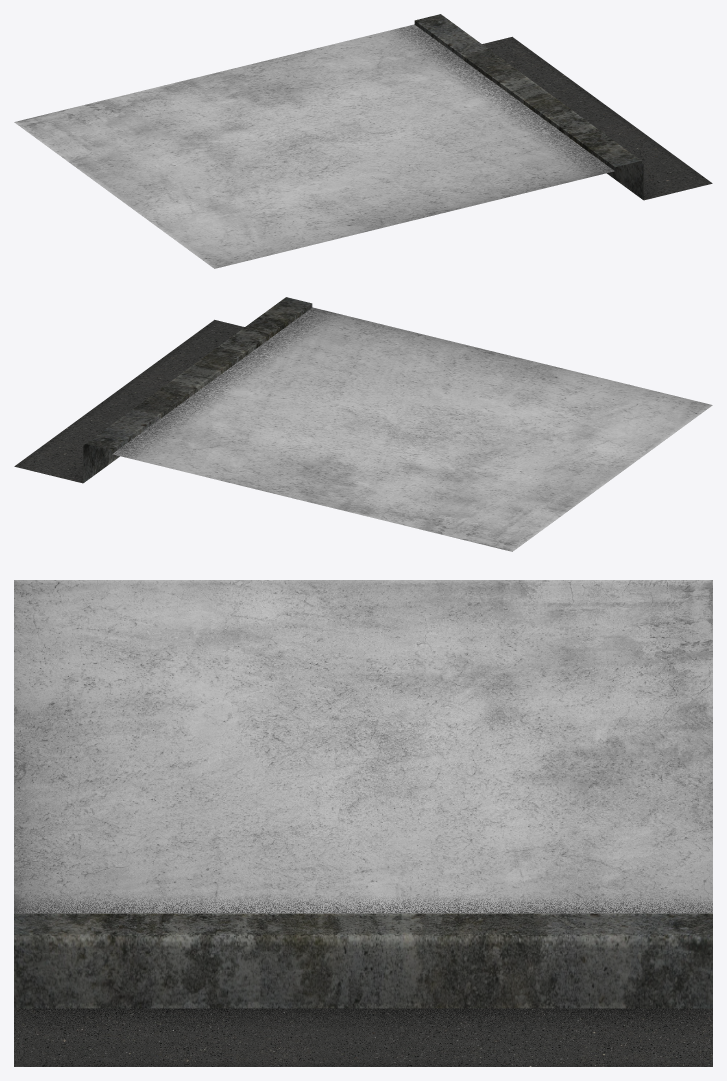
File: testModel4.fbx
3 renders of one model, top to bottom at view 1: azimuth 30°, elevation 25°; view 2: azimuth 150°, elevation 25°; view 3: azimuth 270°, elevation 25°, orthographic. The views are drawn at different scales.
Visible parts, largest first — view 1: Plane; view 2: Plane; view 3: Plane.
Part boxes in pixels (box(x1,y1,x2,y2)): Plane: box(14, 14, 712, 268); Plane: box(14, 297, 712, 551); Plane: box(14, 580, 712, 1066).
Size of the model in its own units: 200 by 22.1 by 287.
1 material, 1 textured.
